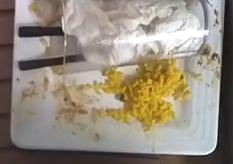rice: (101, 60, 190, 131)
